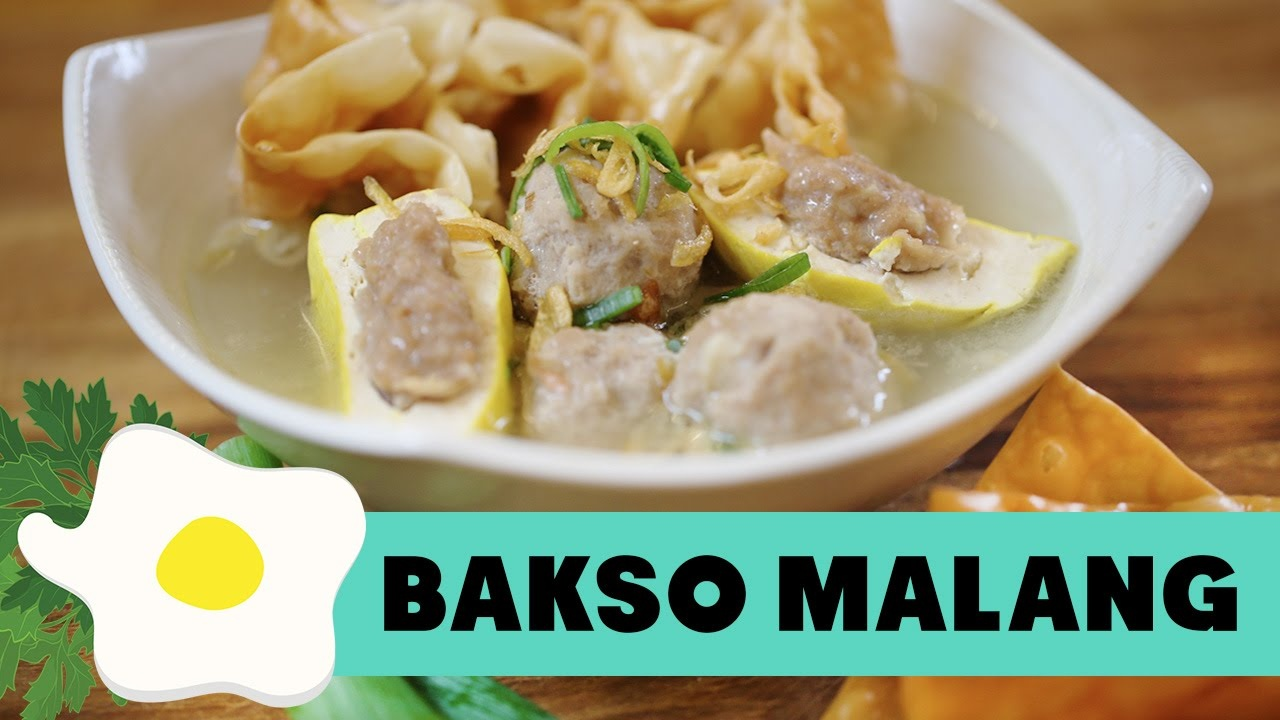bakso_malang: (236, 4, 1078, 446)
